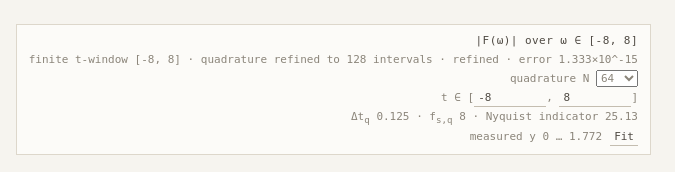
Test: continuous Fourier sampling controls › rejects an invalid Fourier time window and restores the draft
Replace the text in the number field named "Fourier time window minimum" with "10" at {"x": 510, "y": 98}, box [474,90,546,107]
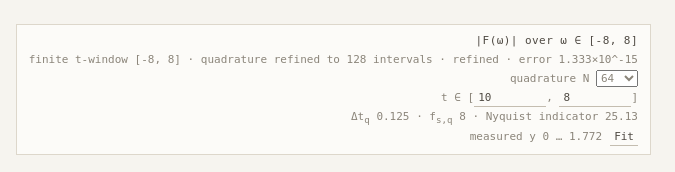
Replace the text in the number field named "Fourier time window maximum" with "5" at {"x": 595, "y": 98}, box [559,90,631,107]
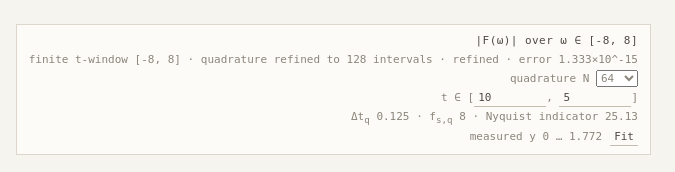
Leave the number field named "Fourier time window maximum", box [559,90,631,107]
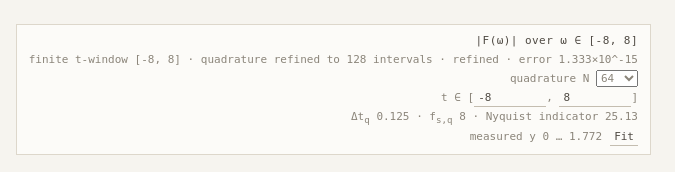
Expected: the number field named "Fourier time window minimum" holds "-8", [474,90,546,107]
Expected: the number field named "Fourier time window maximum" holds "8", [559,90,631,107]
